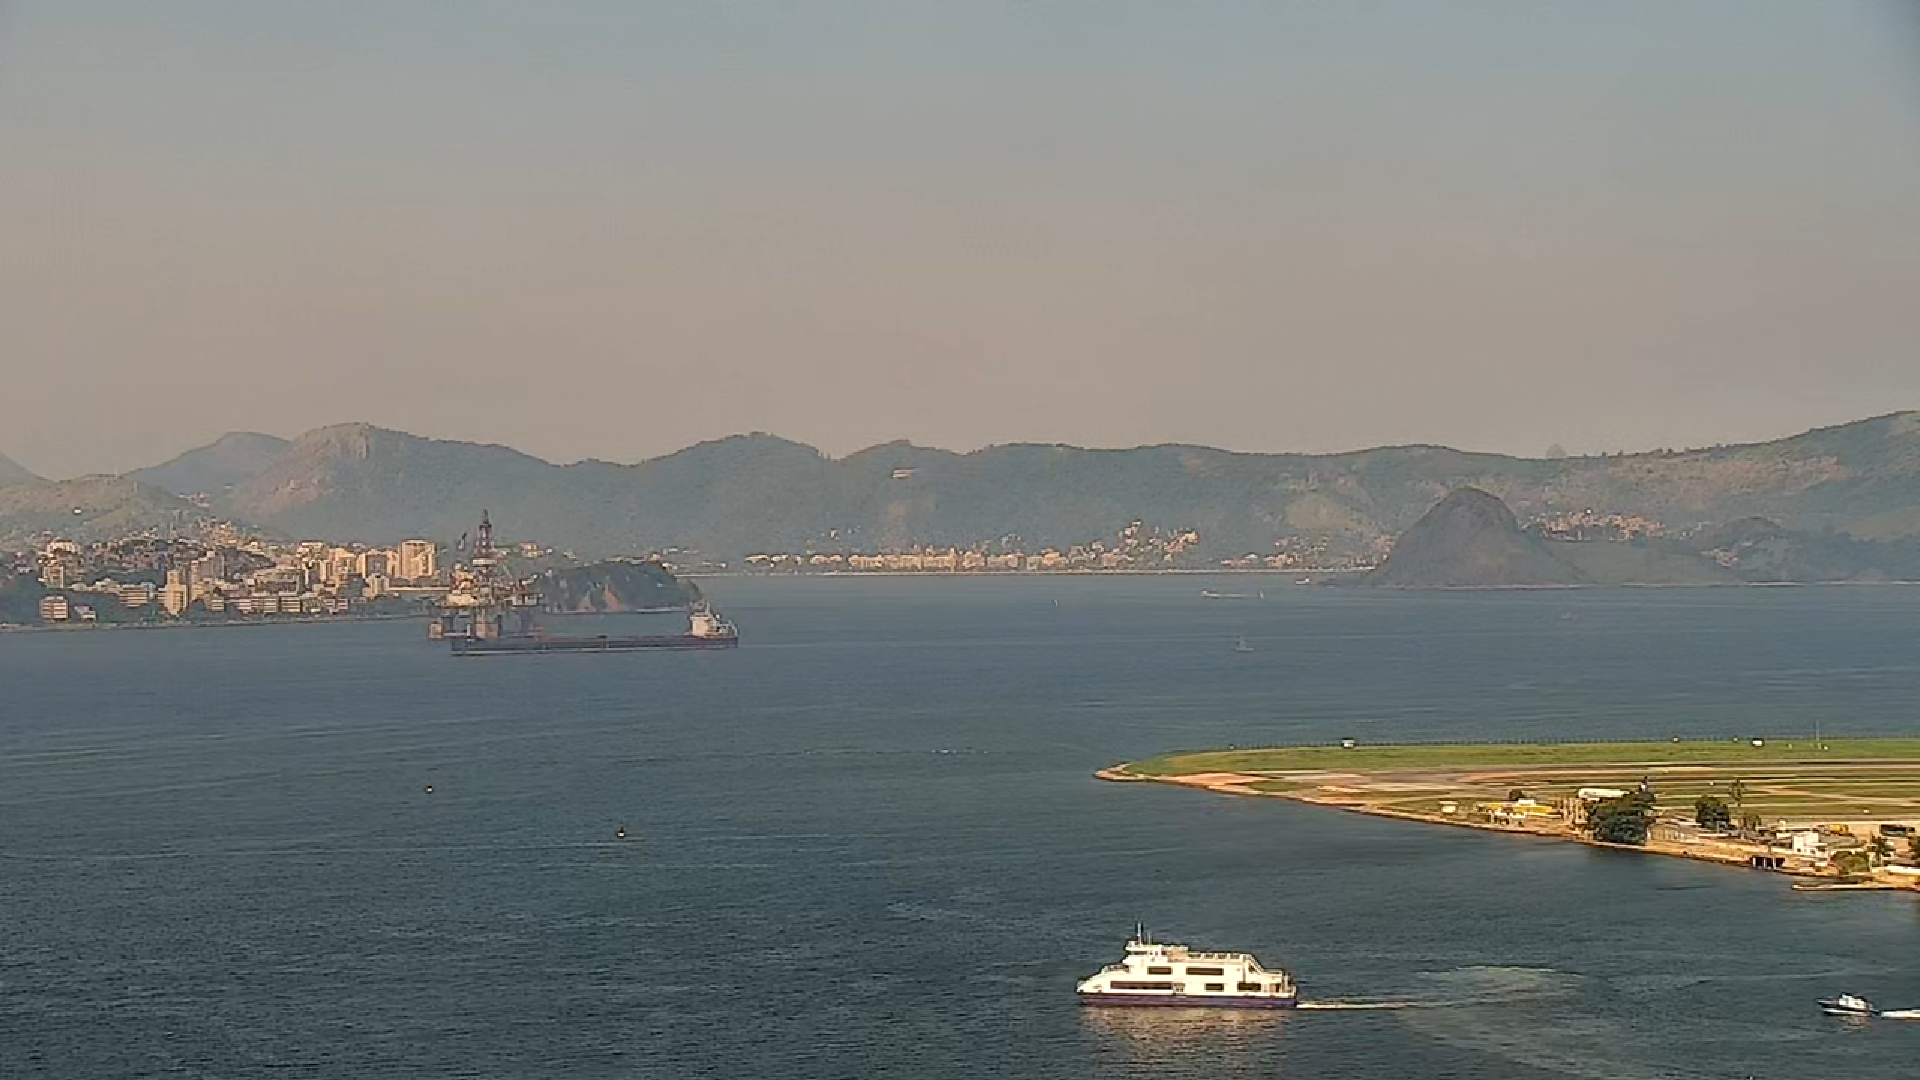Ship1: (1075, 915, 1305, 1017)
Ship2: (444, 604, 748, 655)
Ship7: (1815, 981, 1884, 1019)
